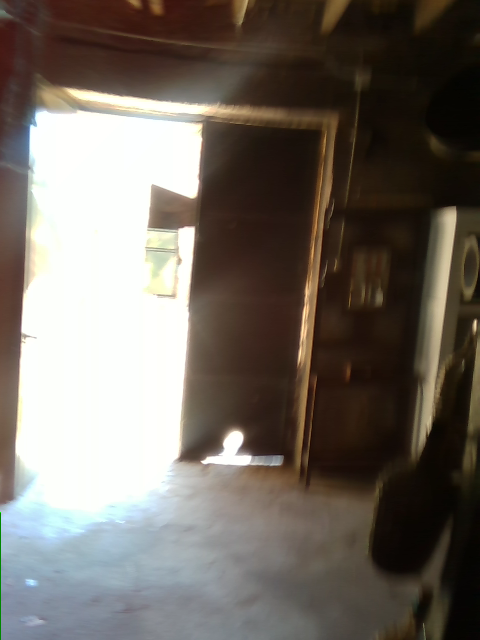open: (0, 59, 336, 509)
